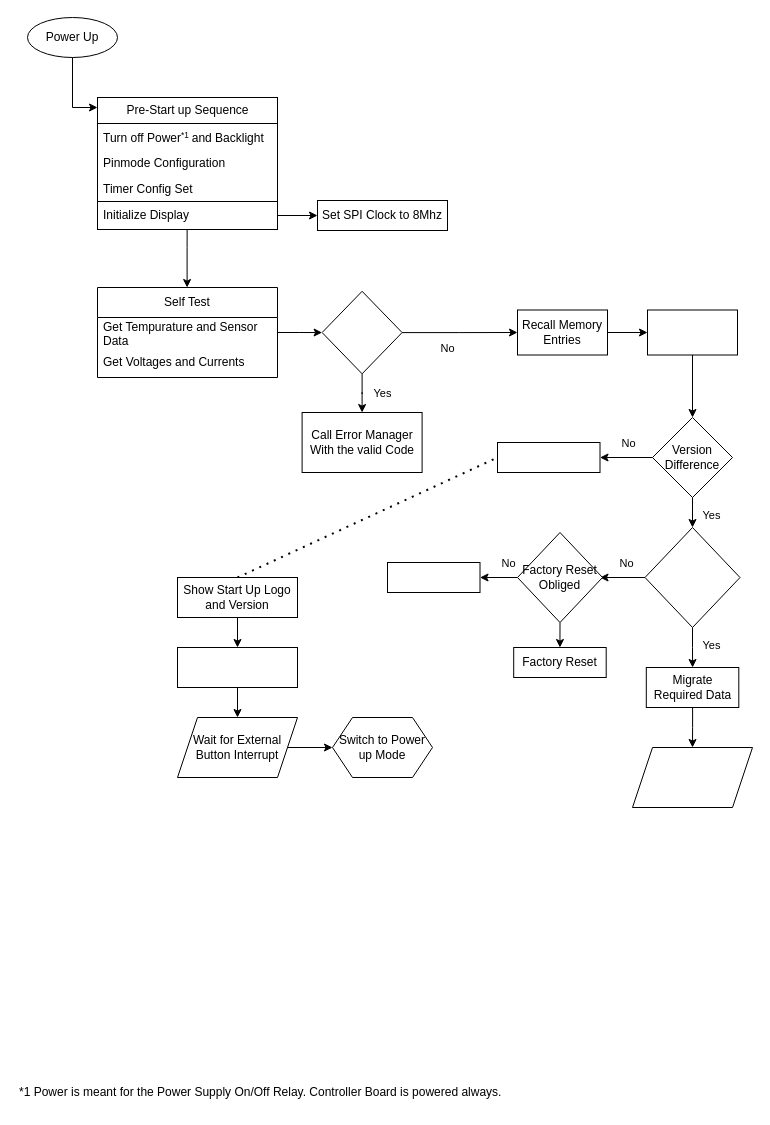
The diagram is 770 pixels wide and 1125 high, and some of its shapes have lost their labels. Here are the shapes that lost their labels. From the top down, the centre of each, then its label:
the point at 361,332: Any Problems
the point at 692,332: Firmware and Version Check
the point at 548,457: Continue to Boot
the point at 433,577: Halt the Boot
the point at 692,577: Version is with in the minimum
the point at 237,667: Switch to Stand-by Mode
the point at 692,777: Request/Perform Device Reset
